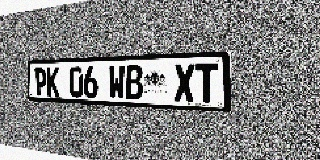0: (69, 67, 83, 98)
6: (83, 66, 98, 98)
B: (125, 65, 143, 100)
K: (47, 67, 59, 97)
P: (35, 68, 47, 96)
T: (196, 63, 218, 103)
W: (109, 65, 125, 99)
X: (174, 64, 195, 102)
